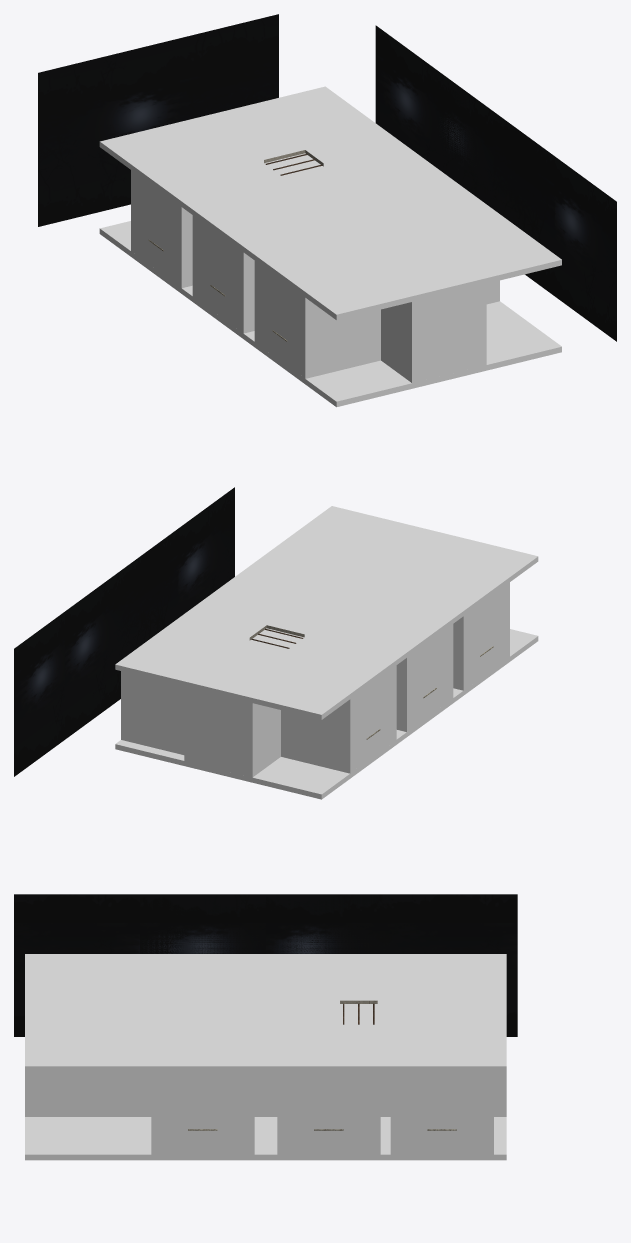
The model's file is hallway.glb.
3 views of the same model, one above another, from view 1: azimuth 30°, elevation 25°; view 2: azimuth 150°, elevation 25°; view 3: azimuth 270°, elevation 25° (orthographic). The views are drawn at different scales.
Visible parts, largest first — view 1: COL_Ceiling, Outside, COL_Floor, COL_Hall_NearWall, COL_SideRoom_L2_FarWall, COL_SideRoom_L1_FarWall, COL_SideRoom_L3_FarWall, COL_SideRoom_L1_SideWallA, COL_Hall_WallL_0; view 2: COL_Ceiling, Outside, COL_Hall_EndWall, COL_Floor, COL_SideRoom_R3_SideWallB, COL_SideRoom_L3_FarWall, COL_SideRoom_L2_FarWall, COL_SideRoom_L1_FarWall, COL_SideRoom_L3_SideWallB, COL_Hall_WallL_3; view 3: COL_Ceiling, Outside, COL_Floor, COL_SideRoom_R1_FarWall, COL_SideRoom_R2_FarWall, COL_SideRoom_R3_FarWall, COL_Hall_WallR_0, COL_Hall_WallR_1, COL_Hall_WallR_2.
Part boxes in pixels (x1=…): COL_Ceiling: x1=99, y1=86, x2=561, y2=320; Outside: x1=38, y1=14, x2=616, y2=341; COL_Floor: x1=99, y1=221, x2=561, y2=407; COL_Hall_NearWall: x1=408, y1=284, x2=486, y2=383; COL_SideRoom_L2_FarWall: x1=192, y1=215, x2=249, y2=333; COL_SideRoom_L1_FarWall: x1=254, y1=261, x2=311, y2=378; COL_SideRoom_L3_FarWall: x1=131, y1=170, x2=187, y2=288; COL_SideRoom_L1_SideWallA: x1=311, y1=302, x2=380, y2=377; COL_Hall_WallL_0: x1=381, y1=303, x2=408, y2=379; COL_Ceiling: x1=115, y1=506, x2=538, y2=719; Outside: x1=14, y1=487, x2=234, y2=776; COL_Hall_EndWall: x1=184, y1=686, x2=255, y2=777; COL_Floor: x1=115, y1=629, x2=538, y2=799; COL_SideRoom_R3_SideWallB: x1=126, y1=672, x2=184, y2=754; COL_SideRoom_L3_FarWall: x1=344, y1=665, x2=396, y2=773; COL_SideRoom_L2_FarWall: x1=401, y1=624, x2=453, y2=731; COL_SideRoom_L1_FarWall: x1=458, y1=582, x2=509, y2=690; COL_SideRoom_L3_SideWallB: x1=281, y1=703, x2=344, y2=772; COL_Hall_WallL_3: x1=256, y1=704, x2=280, y2=774; COL_Ceiling: x1=25, y1=954, x2=506, y2=1071; Outside: x1=14, y1=894, x2=517, y2=1036; COL_Floor: x1=25, y1=1117, x2=506, y2=1160; COL_SideRoom_R1_FarWall: x1=151, y1=1072, x2=254, y2=1154; COL_SideRoom_R2_FarWall: x1=277, y1=1072, x2=380, y2=1154; COL_SideRoom_R3_FarWall: x1=390, y1=1072, x2=493, y2=1154; COL_Hall_WallR_0: x1=33, y1=1072, x2=151, y2=1116; COL_Hall_WallR_1: x1=254, y1=1072, x2=277, y2=1116; COL_Hall_WallR_2: x1=380, y1=1072, x2=390, y2=1116.
Bounding box in the file's own units: 14.42 × 5.5 × 19.15.
Materials: 34 (29 with a texture image).
